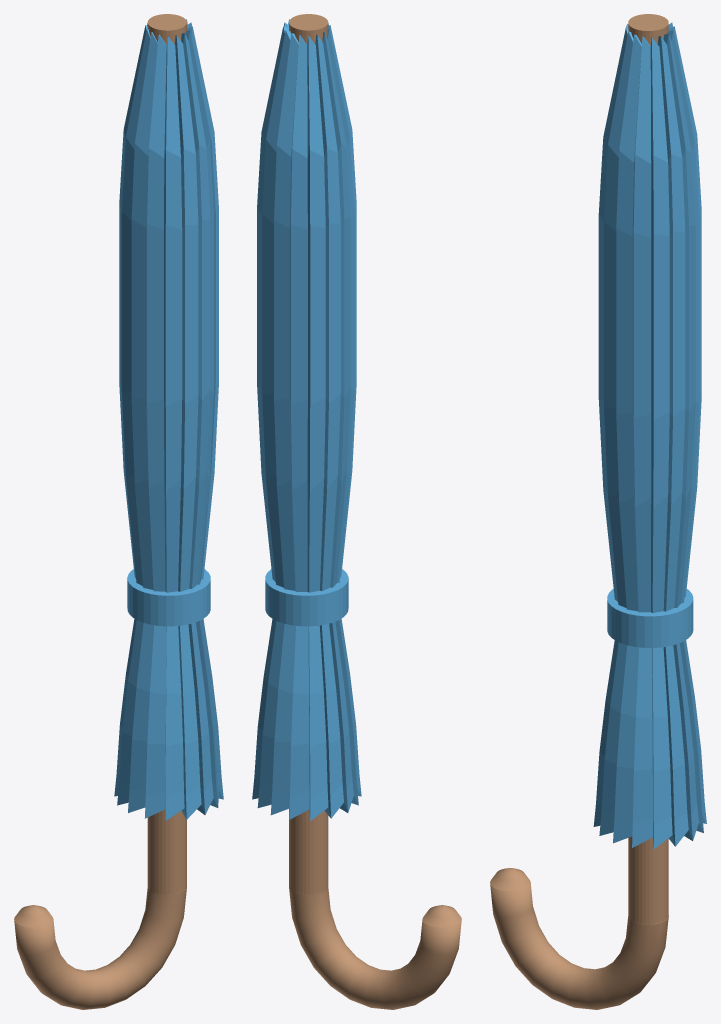
Rendered from umbrella.glb.
3 views of the same model, side by side, from view 1: azimuth 30°, elevation 25°; view 2: azimuth 150°, elevation 25°; view 3: azimuth 330°, elevation 25° (orthographic). The views are drawn at different scales.
Parts seen in each view (by area): view 1: Cylinder.001, Cylinder.003, Cylinder, Cylinder.002; view 2: Cylinder.001, Cylinder.003, Cylinder, Cylinder.002; view 3: Cylinder.001, Cylinder.003, Cylinder, Cylinder.002.
Boxes of the visible parts, x1,y1,x2,y2 form: Cylinder.001: (119, 19, 218, 592); Cylinder.003: (114, 618, 223, 820); Cylinder: (14, 14, 186, 1009); Cylinder.002: (127, 569, 210, 626); Cylinder.001: (257, 19, 356, 592); Cylinder.003: (252, 618, 361, 820); Cylinder: (289, 14, 461, 1009); Cylinder.002: (265, 569, 348, 626); Cylinder.001: (598, 22, 701, 613); Cylinder.003: (593, 640, 706, 848); Cylinder: (490, 14, 668, 1009); Cylinder.002: (607, 589, 693, 647).
Size of the model in its own units: 1.71 by 7.94 by 0.8001.
